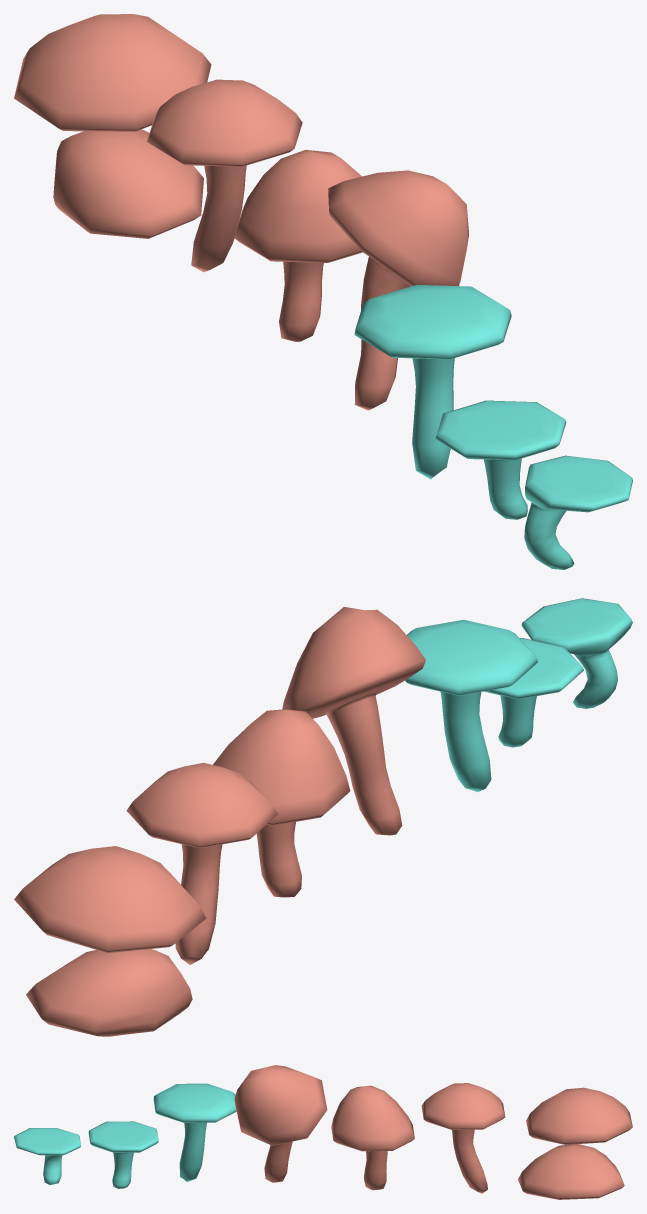
The model's file is Hongos.fbx.
The picture shows the model from 3 angles, top to bottom: view 1: azimuth 30°, elevation 25°; view 2: azimuth 150°, elevation 25°; view 3: azimuth 270°, elevation 25°; orthographic projection. The views are drawn at different scales.
Visible parts, largest first — view 1: Hongos sin tallo 2, Hongos 3, Hongos 1, Hongos plano azul, Hongos sin tallo, Hongos 2, Hongos plano azul 2, Hongos plano azul 2.001; view 2: Hongos 3, Hongos sin tallo 2, Hongos 2, Hongos 1, Hongos sin tallo, Hongos plano azul, Hongos plano azul 2.001, Hongos plano azul 2; view 3: Hongos 3, Hongos 2, Hongos sin tallo 2, Hongos sin tallo, Hongos 1, Hongos plano azul, Hongos plano azul 2, Hongos plano azul 2.001.
Boxes of the visible parts, left/top/right/bottom form: Hongos sin tallo 2: left=14, top=14, right=211, bottom=131; Hongos 3: left=328, top=170, right=469, bottom=410; Hongos 1: left=147, top=79, right=302, bottom=272; Hongos plano azul: left=354, top=284, right=511, bottom=479; Hongos sin tallo: left=53, top=129, right=203, bottom=238; Hongos 2: left=234, top=150, right=362, bottom=341; Hongos plano azul 2: left=435, top=400, right=566, bottom=519; Hongos plano azul 2.001: left=524, top=455, right=632, bottom=569; Hongos 3: left=282, top=607, right=425, bottom=835; Hongos sin tallo 2: left=14, top=846, right=206, bottom=952; Hongos 2: left=213, top=709, right=350, bottom=897; Hongos 1: left=126, top=762, right=277, bottom=964; Hongos sin tallo: left=26, top=949, right=192, bottom=1036; Hongos plano azul: left=405, top=619, right=537, bottom=792; Hongos plano azul 2.001: left=521, top=598, right=632, bottom=708; Hongos plano azul 2: left=484, top=638, right=583, bottom=747; Hongos 3: left=234, top=1065, right=327, bottom=1182; Hongos 2: left=331, top=1085, right=414, bottom=1190; Hongos sin tallo 2: left=526, top=1087, right=632, bottom=1144; Hongos sin tallo: left=518, top=1144, right=624, bottom=1199; Hongos 1: left=421, top=1083, right=505, bottom=1193; Hongos plano azul: left=153, top=1083, right=236, bottom=1181; Hongos plano azul 2: left=88, top=1121, right=158, bottom=1188; Hongos plano azul 2.001: left=14, top=1128, right=80, bottom=1184.
Size of the model in its own units: 1104 by 1373 by 5960.
